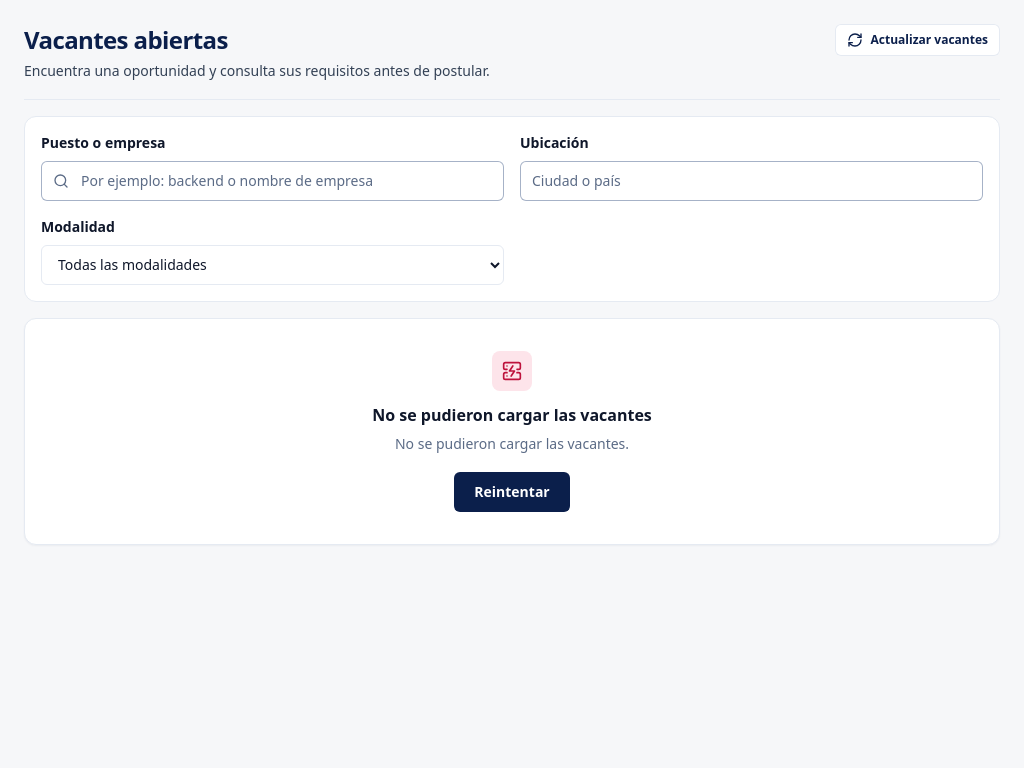
Test: explorador de vacantes › si no existen vacantes no simula resultados y permite recuperar un error de carga
The image size is (1024, 768).
Click the button "Reintentar" at [512, 492], box 454,472 -> 570,512
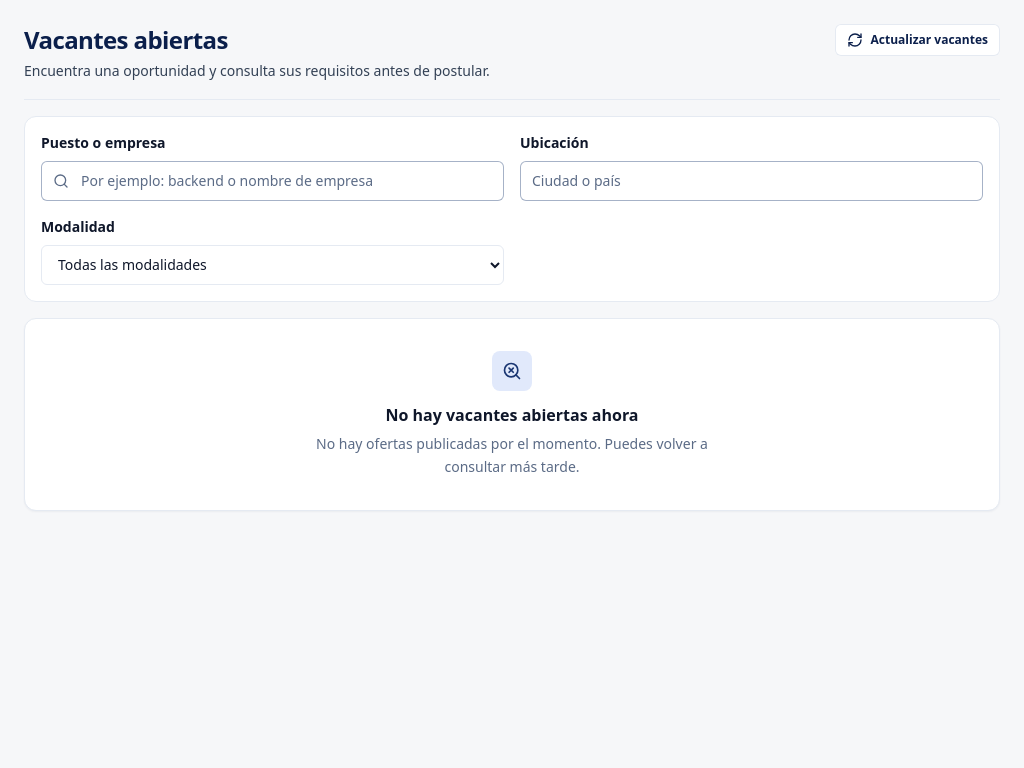
Now the heading "No hay vacantes abiertas ahora" is shown, box 386,403 -> 638,427
